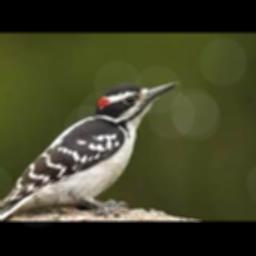Woodpecker: (0, 80, 177, 221)
